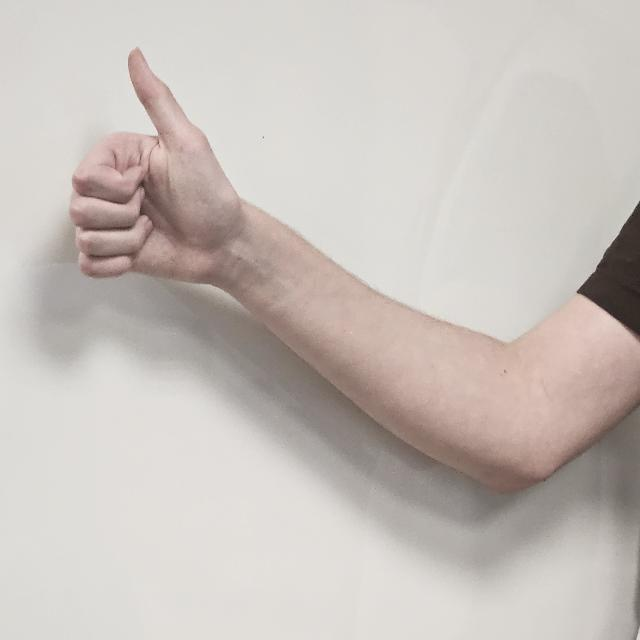Start: (71, 46, 257, 316)
